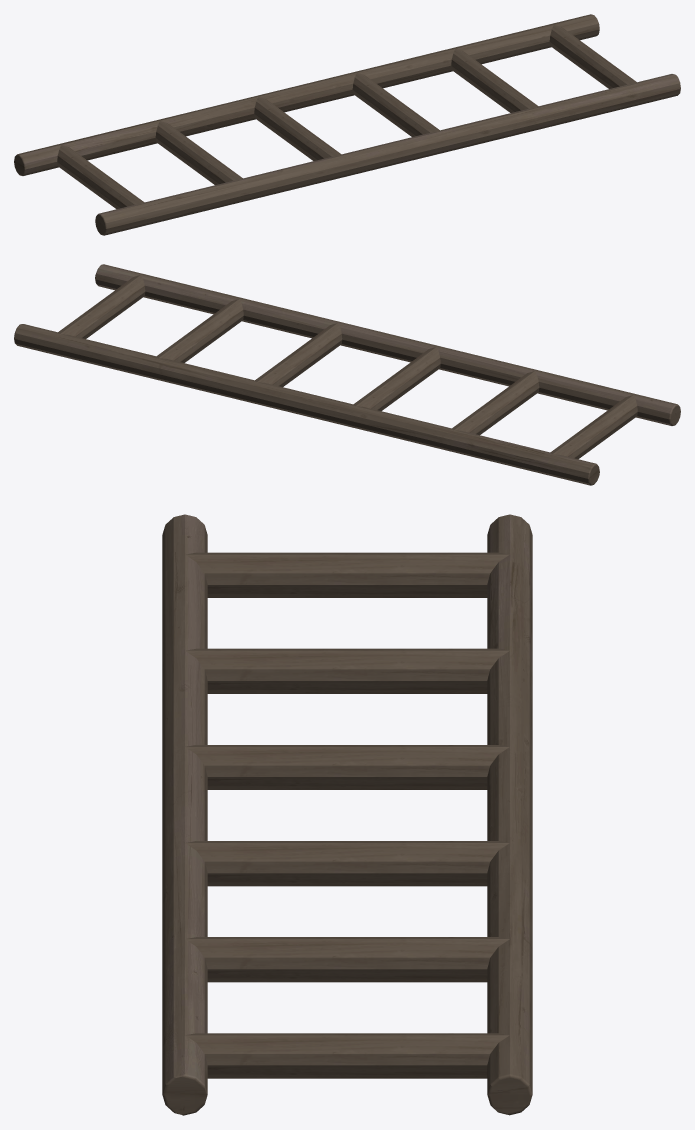
The model's file is ladder.obj.
3 views of the same model, one above another, from view 1: azimuth 30°, elevation 25°; view 2: azimuth 150°, elevation 25°; view 3: azimuth 270°, elevation 25° (orthographic). The views are drawn at different scales.
Visible parts, largest first — view 1: Cylinder.002_Cylinder.011; view 2: Cylinder.002_Cylinder.011; view 3: Cylinder.002_Cylinder.011.
Boxes of the visible parts, x1,y1,x2,y2 form: Cylinder.002_Cylinder.011: (14,14,680,235); Cylinder.002_Cylinder.011: (14,264,680,485); Cylinder.002_Cylinder.011: (162,514,532,1115).
Size of the model in its own units: 8.18 by 0.28 by 2.28.
1 material, 1 textured.
